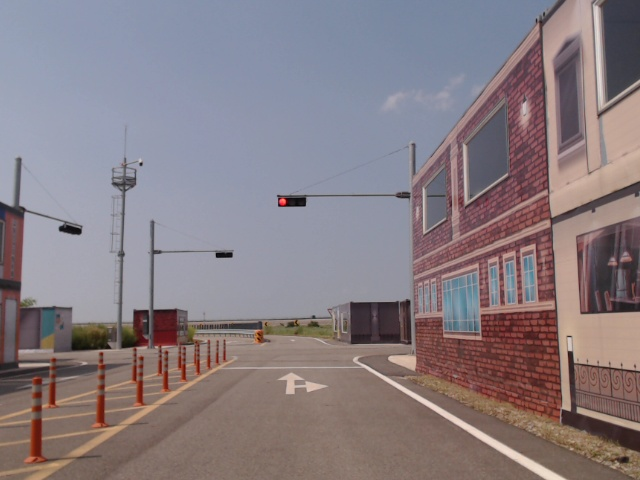red_3: (279, 197, 306, 207)
